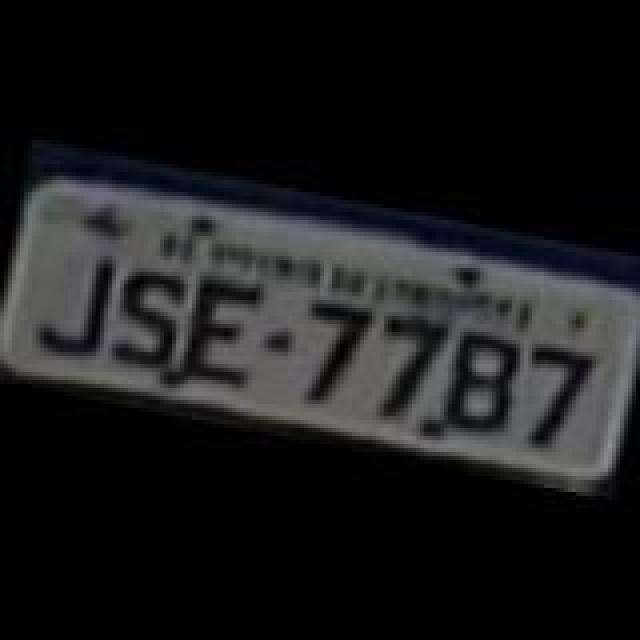7: (290, 292, 382, 412), (508, 336, 596, 456), (364, 312, 452, 432)
8: (434, 322, 526, 438)
E: (176, 272, 272, 392)
J: (26, 244, 118, 364)
S: (100, 260, 188, 372)
